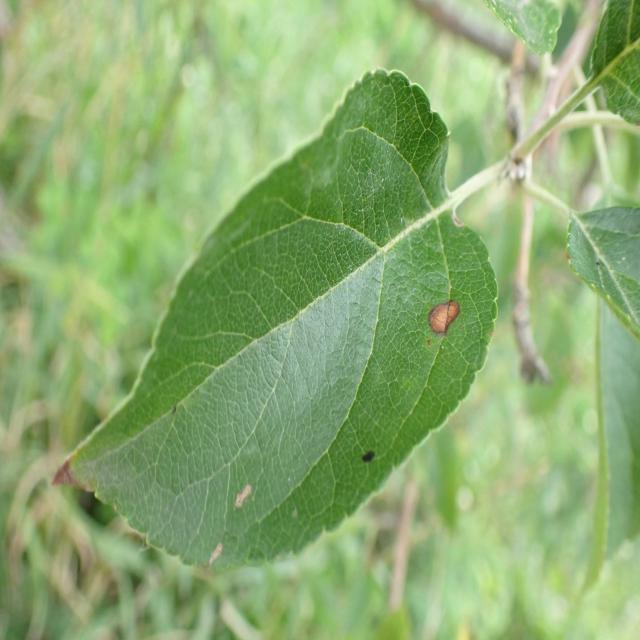Black Rot: (418, 282, 469, 344), (228, 464, 257, 522), (197, 537, 230, 576)
